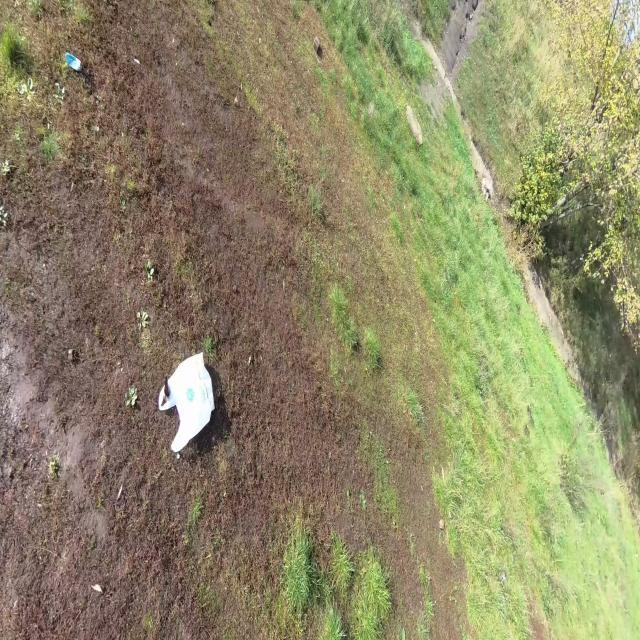rubbish: (158, 349, 215, 455), (65, 50, 82, 72), (163, 376, 170, 402), (312, 34, 321, 53)
